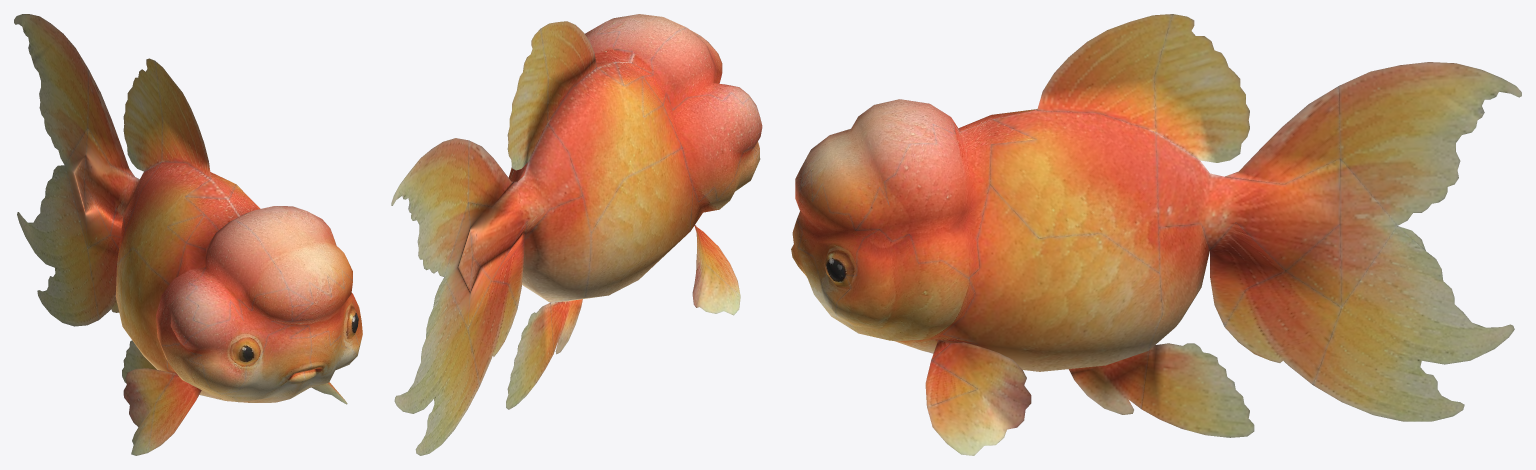
The model's file is 狮子头鱼之影.glb.
3 renders of one model, left to right at view 1: azimuth 30°, elevation 25°; view 2: azimuth 150°, elevation 25°; view 3: azimuth 270°, elevation 25°, orthographic. The views are drawn at different scales.
Visible parts, largest first — view 1: tripo_node_8984a1c0-6e83-4b98-9a5a-db7e6af3b739; view 2: tripo_node_8984a1c0-6e83-4b98-9a5a-db7e6af3b739; view 3: tripo_node_8984a1c0-6e83-4b98-9a5a-db7e6af3b739.
Part boxes in pixels (bbox=[...]): tripo_node_8984a1c0-6e83-4b98-9a5a-db7e6af3b739: bbox=[14, 14, 362, 455]; tripo_node_8984a1c0-6e83-4b98-9a5a-db7e6af3b739: bbox=[391, 14, 762, 455]; tripo_node_8984a1c0-6e83-4b98-9a5a-db7e6af3b739: bbox=[791, 14, 1521, 455].
Size of the model in its own units: 0.4082 by 0.6387 by 0.998.
1 material, 1 textured.
